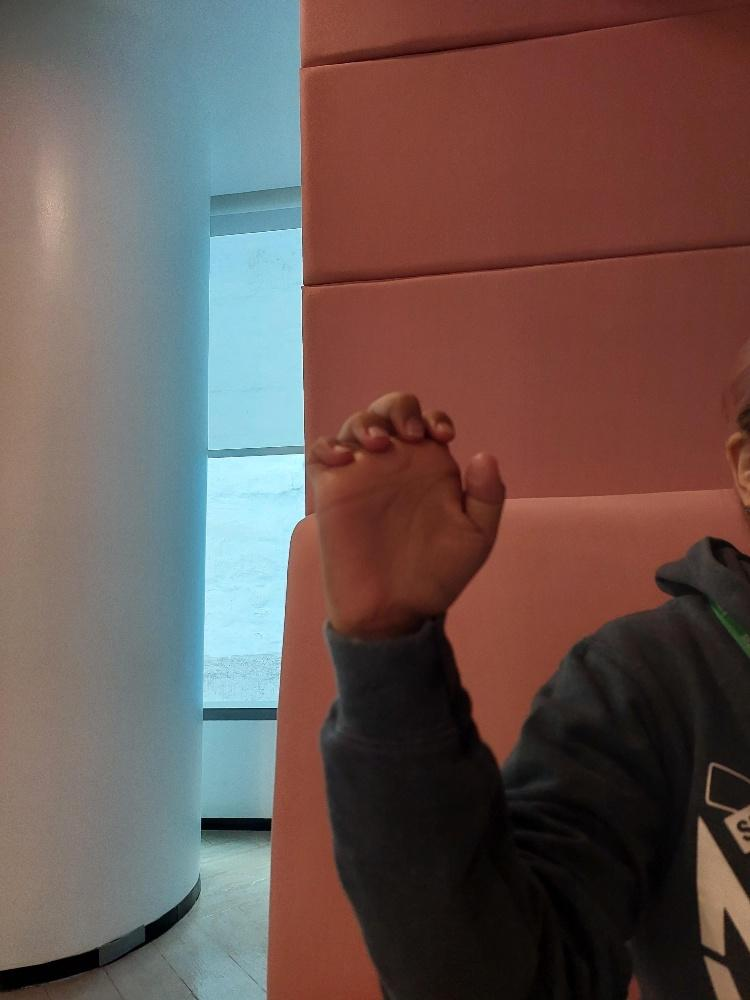e: (305, 385, 516, 640)
